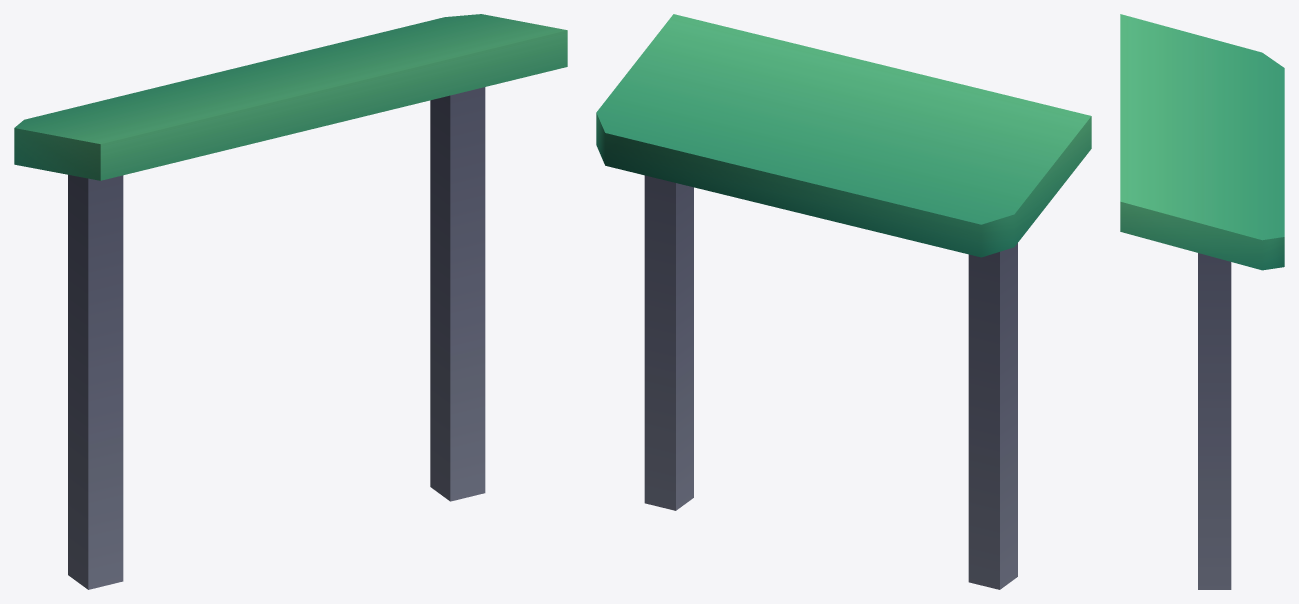
3 renders of one model, left to right at view 1: azimuth 30°, elevation 25°; view 2: azimuth 150°, elevation 25°; view 3: azimuth 270°, elevation 25°, orthographic. The views are drawn at different scales.
Visible parts, largest first — view 1: detail-awning; view 2: detail-awning; view 3: detail-awning.
Part boxes in pixels (bbox=[...]): detail-awning: bbox=[14, 14, 567, 589]; detail-awning: bbox=[596, 14, 1091, 589]; detail-awning: bbox=[1120, 14, 1284, 589].
Size of the model in its own units: 3.71 by 3.71 by 1.37.
1 material, 1 textured.
